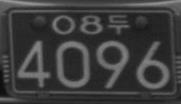0: (55, 39, 91, 89), (51, 14, 75, 35)
4: (17, 39, 50, 87)
6: (135, 41, 170, 90)
8: (79, 14, 102, 35)
9: (96, 39, 129, 89)
두: (107, 14, 130, 34)
